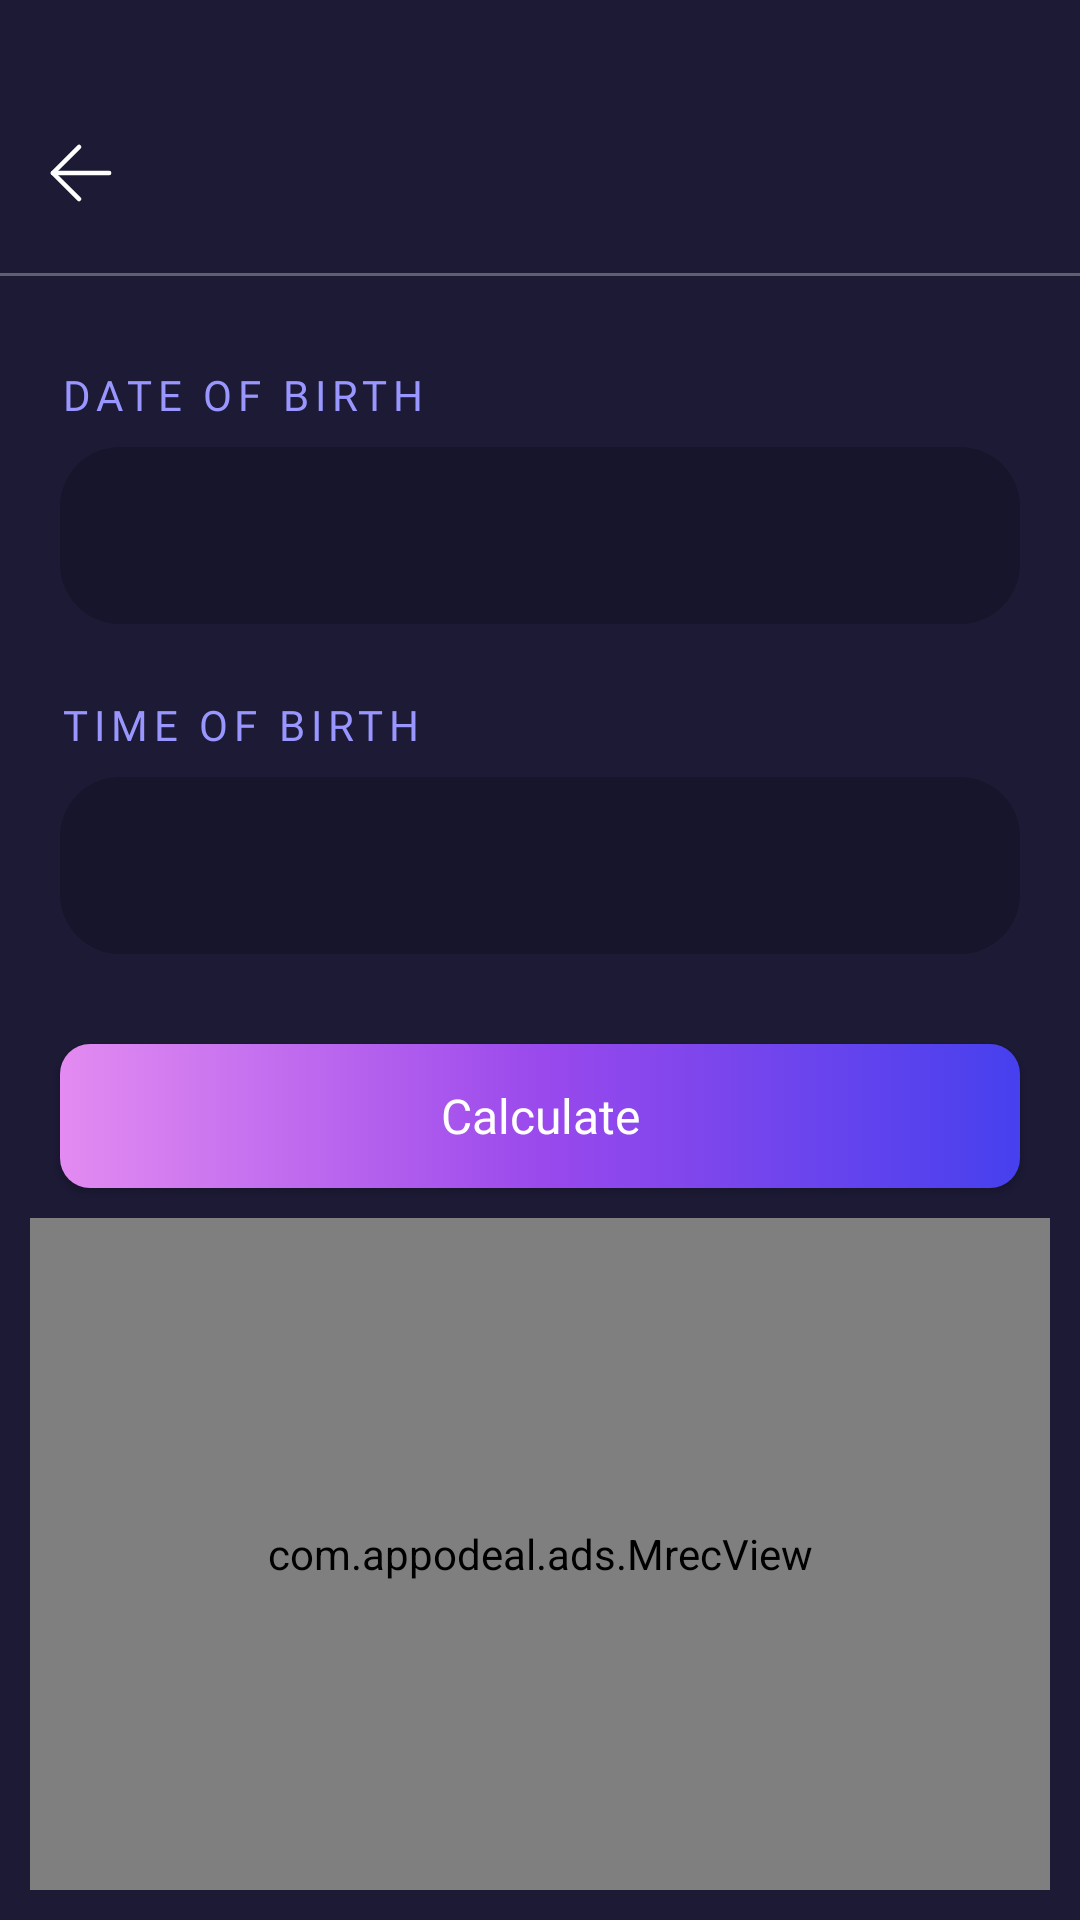

Icon bounding boxes for this 1080 × 1920 phone screenshot, format (x1,y1,x2,y2):
arrow left: (50,144,112,202)
